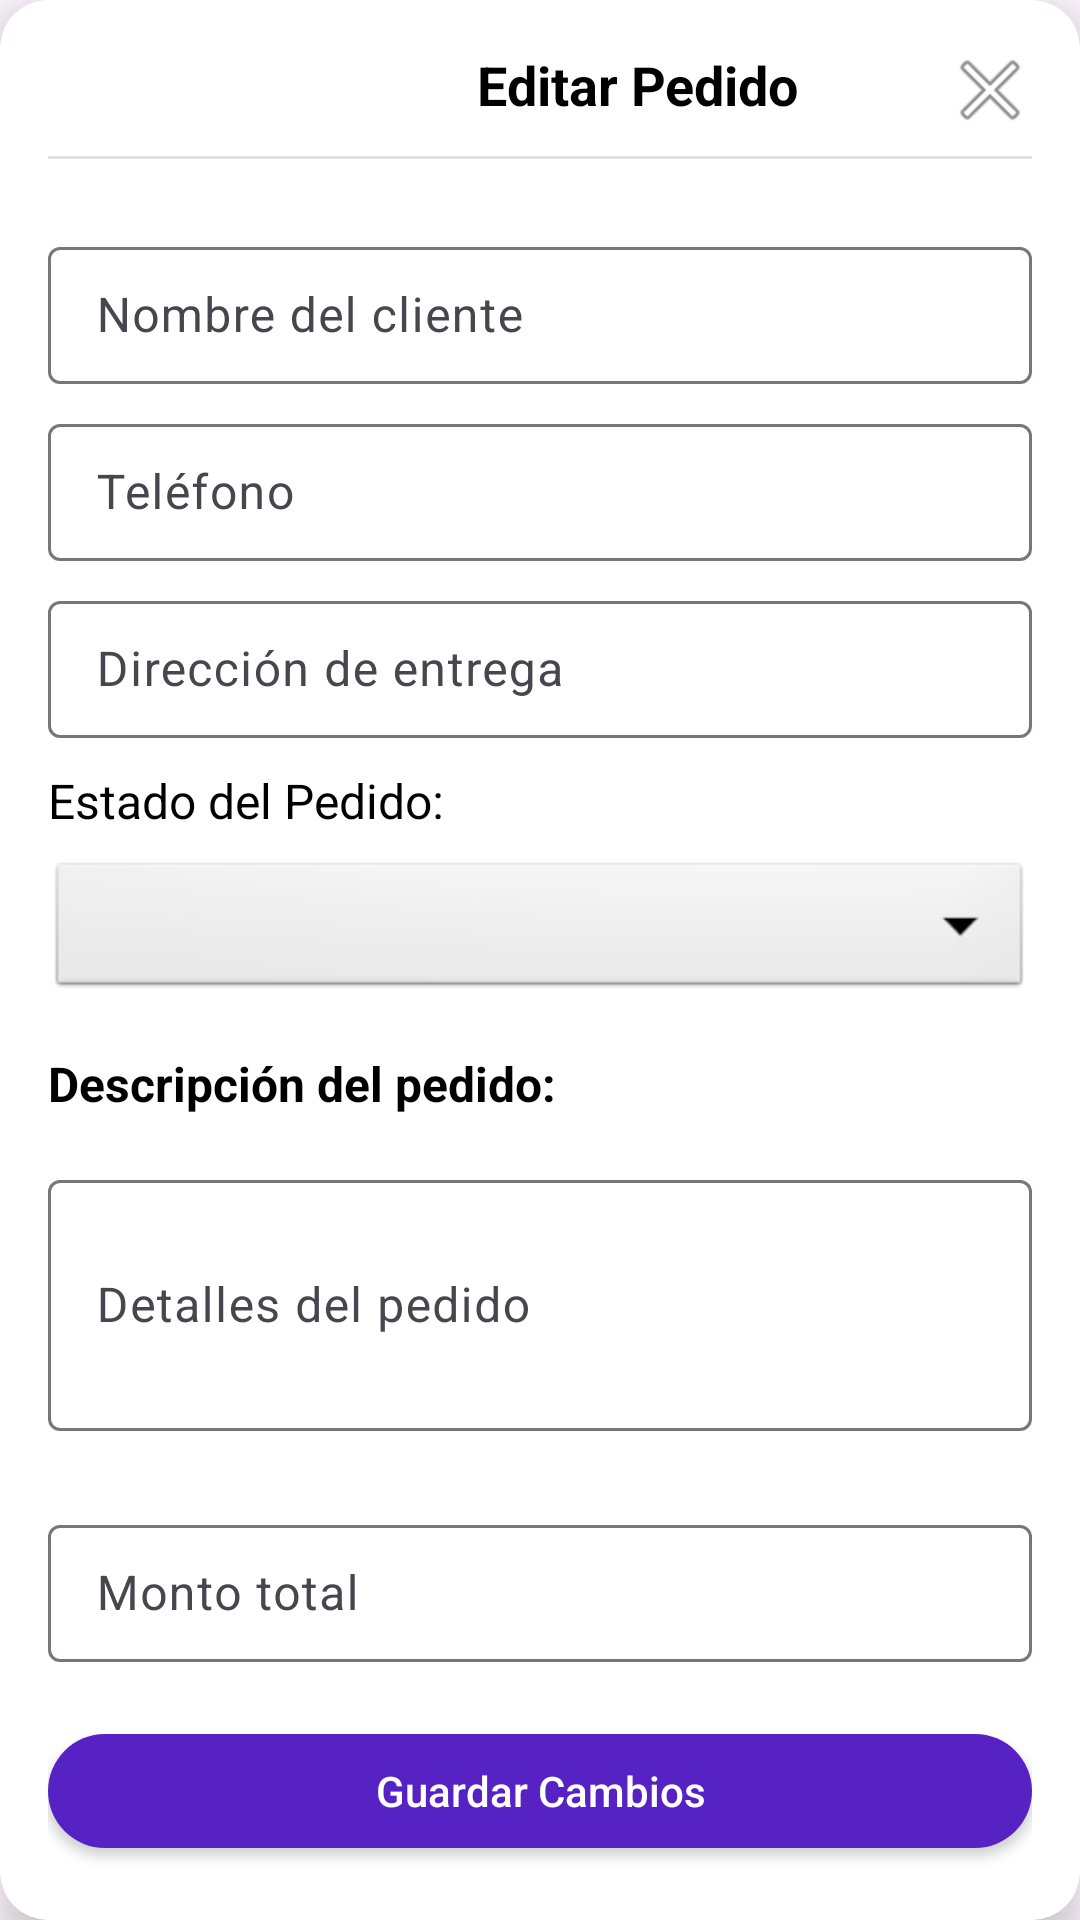

Icons on this 1080px x 1920px Android screen, each with its box as region(x1, y1, x2, y2):
close clear cancel: region(960, 60, 1020, 120)
